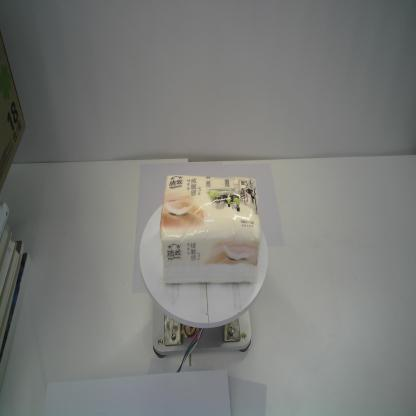Tissue: (160, 174, 261, 284)
